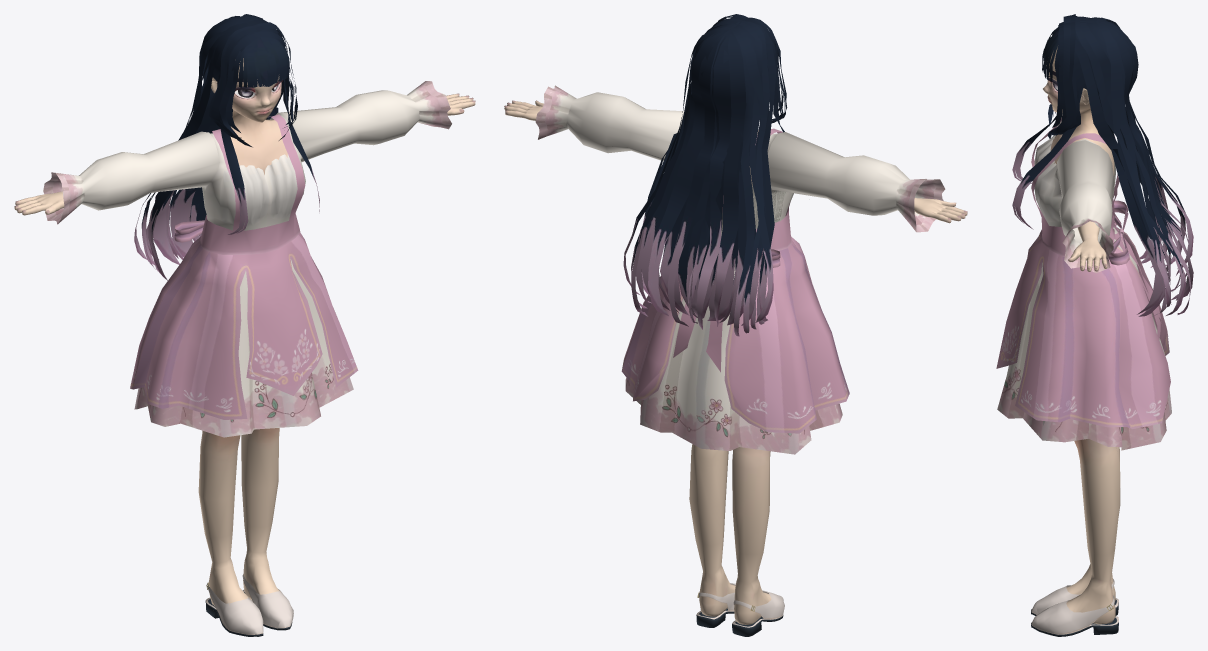
The model's file is chr_cherry.fbx.
The picture shows the model from 3 angles, left to right: view 1: azimuth 30°, elevation 25°; view 2: azimuth 150°, elevation 25°; view 3: azimuth 270°, elevation 25°; orthographic projection.
Visible parts, largest first — view 1: Cherry Delantal, Cherry Vestido, Cherry Cuerpo, Cherry Cabello, Cherry Zapatos; view 2: Cherry Cabello, Cherry Vestido, Cherry Delantal, Cherry Cuerpo, Cherry Zapatos; view 3: Cherry Delantal, Cherry Cabello, Cherry Vestido, Cherry Cuerpo, Cherry Zapatos.
Boxes of the visible parts, left/top/right/bottom form: Cherry Delantal: left=130, top=114, right=358, bottom=419; Cherry Vestido: left=43, top=81, right=451, bottom=437; Cherry Cuerpo: left=14, top=58, right=475, bottom=605; Cherry Cabello: left=134, top=14, right=319, bottom=280; Cherry Zapatos: left=205, top=574, right=293, bottom=636; Cherry Cabello: left=623, top=14, right=787, bottom=336; Cherry Vestido: left=535, top=85, right=945, bottom=454; Cherry Delantal: left=621, top=128, right=849, bottom=433; Cherry Cuerpo: left=504, top=100, right=967, bottom=624; Cherry Zapatos: left=696, top=583, right=784, bottom=636; Cherry Delantal: left=996, top=118, right=1170, bottom=428; Cherry Cabello: left=1012, top=14, right=1193, bottom=316; Cherry Vestido: left=997, top=113, right=1171, bottom=450; Cherry Cuerpo: left=1043, top=47, right=1120, bottom=624; Cherry Zapatos: left=1031, top=579, right=1118, bottom=636.
Bounding box in the file's own units: 128 × 159 × 47.38.
Materials: 7 (7 with a texture image).
